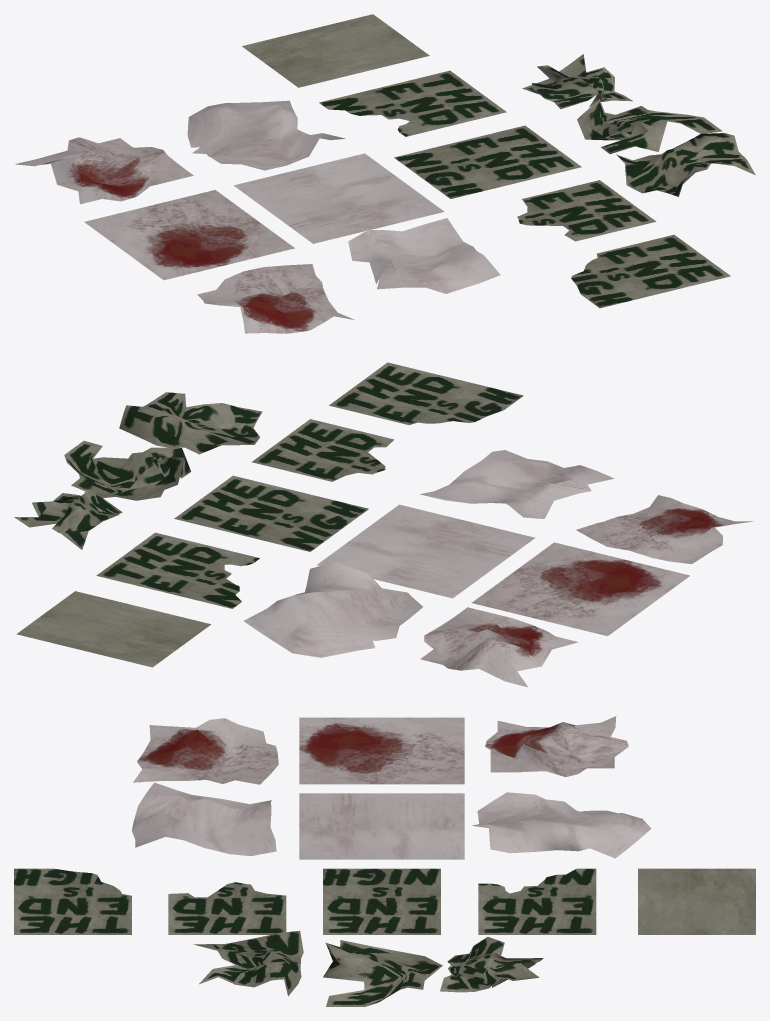
File: evidence.glb
The picture shows the model from 3 angles, top to bottom: view 1: azimuth 30°, elevation 25°; view 2: azimuth 150°, elevation 25°; view 3: azimuth 270°, elevation 25°; orthographic projection. The views are drawn at different scales.
Parts seen in each view (by area): view 1: Napkin_2, Napkin_1, End_is_Nigh_Poster, Wrapping_Paper_3, Napkin_1_Crumpled_1, Napkin_1_Crumpled_2, End_is_Nigh_Poster_Ripped_3, Napkin_2_Crumpled_2, Napkin_2_Crumpled_1, End_is_Nigh_Poster_Ripped_1, End_is_Nigh_Poster_Ripped_2, End_is_Nigh_Crumpled_3 (+2 smaller); view 2: Napkin_2, Napkin_1, Napkin_1_Crumpled_2, End_is_Nigh_Poster, Wrapping_Paper_3, End_is_Nigh_Poster_Ripped_3, Napkin_2_Crumpled_1, End_is_Nigh_Poster_Ripped_1, Napkin_1_Crumpled_1, Napkin_2_Crumpled_2, End_is_Nigh_Crumpled_3, End_is_Nigh_Poster_Ripped_2 (+2 smaller); view 3: Napkin_2, Napkin_1, End_is_Nigh_Poster, Wrapping_Paper_3, Napkin_1_Crumpled_2, Napkin_2_Crumpled_2, Napkin_1_Crumpled_1, End_is_Nigh_Poster_Ripped_3, End_is_Nigh_Poster_Ripped_1, Napkin_2_Crumpled_1, End_is_Nigh_Poster_Ripped_2, End_is_Nigh_Crumpled_2 (+2 smaller).
Boxes of the visible parts, x1,y1,x2,y2 form: Napkin_2: [84, 190, 294, 280]; Napkin_1: [233, 153, 444, 243]; End_is_Nigh_Poster: [394, 125, 581, 198]; Wrapping_Paper_3: [242, 14, 429, 87]; Napkin_1_Crumpled_1: [348, 218, 500, 293]; Napkin_1_Crumpled_2: [187, 100, 322, 170]; End_is_Nigh_Poster_Ripped_3: [571, 234, 730, 308]; Napkin_2_Crumpled_2: [197, 264, 354, 333]; Napkin_2_Crumpled_1: [15, 137, 193, 204]; End_is_Nigh_Poster_Ripped_1: [319, 70, 506, 136]; End_is_Nigh_Poster_Ripped_2: [517, 180, 656, 241]; End_is_Nigh_Crumpled_3: [616, 133, 755, 196]; Napkin_2: [472, 542, 689, 636]; Napkin_1: [316, 504, 535, 598]; Napkin_1_Crumpled_2: [244, 562, 422, 657]; End_is_Nigh_Poster: [174, 475, 368, 551]; Wrapping_Paper_3: [16, 591, 210, 667]; End_is_Nigh_Poster_Ripped_3: [329, 362, 523, 424]; Napkin_2_Crumpled_1: [420, 607, 578, 687]; End_is_Nigh_Poster_Ripped_1: [96, 532, 259, 608]; Napkin_1_Crumpled_1: [420, 450, 613, 518]; Napkin_2_Crumpled_2: [576, 495, 753, 563]; End_is_Nigh_Crumpled_3: [119, 392, 262, 454]; End_is_Nigh_Poster_Ripped_2: [251, 419, 394, 481]; Napkin_2: [299, 717, 464, 784]; Napkin_1: [299, 793, 464, 859]; End_is_Nigh_Poster: [323, 868, 440, 934]; Wrapping_Paper_3: [638, 868, 755, 934]; Napkin_1_Crumpled_2: [472, 792, 651, 858]; Napkin_2_Crumpled_2: [133, 718, 278, 784]; Napkin_1_Crumpled_1: [132, 782, 276, 855]; End_is_Nigh_Poster_Ripped_3: [14, 868, 131, 934]; End_is_Nigh_Poster_Ripped_1: [478, 868, 596, 934]; Napkin_2_Crumpled_1: [485, 716, 628, 776]; End_is_Nigh_Poster_Ripped_2: [168, 882, 286, 934]; End_is_Nigh_Crumpled_2: [323, 940, 442, 1006].
Size of the model in its own units: 0.8705 by 0.0509 by 0.9438.
Materials: 2 (2 with a texture image).
